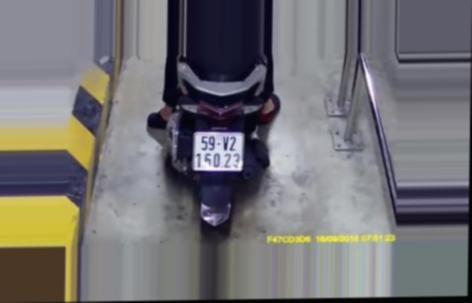License_Plate: (186, 127, 249, 176)
